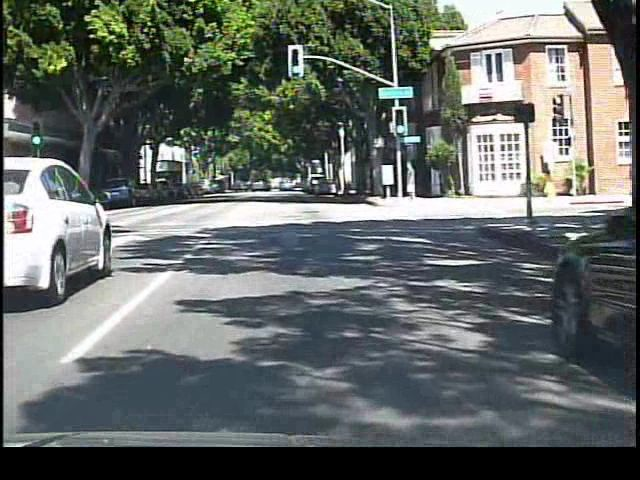person: (404, 157, 424, 207)
